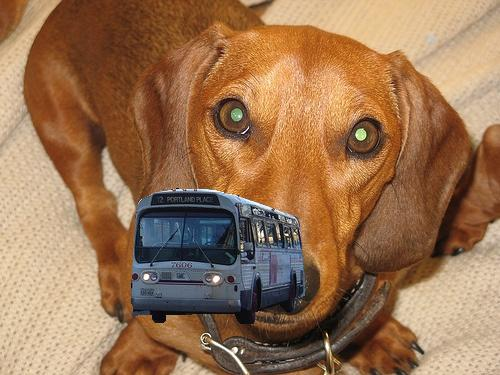tampered: (132, 189, 305, 324)
